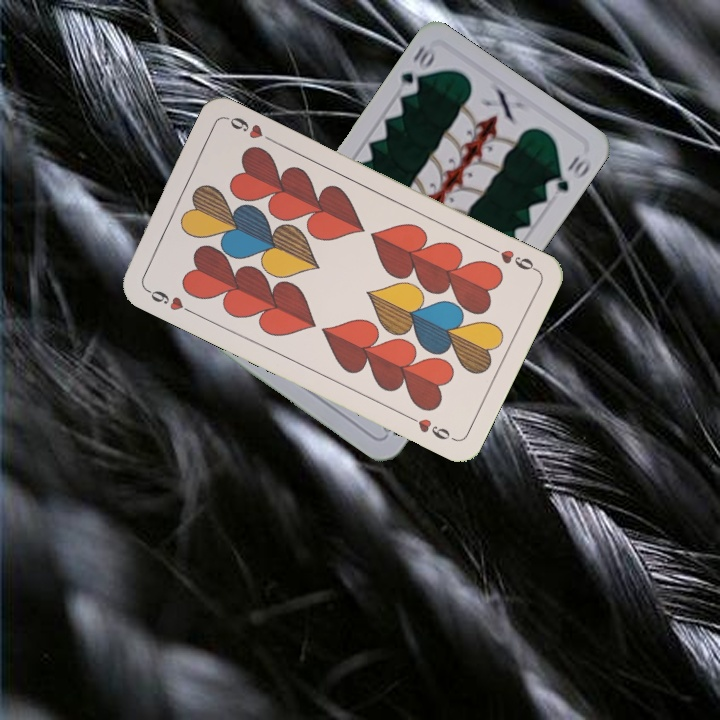G10: (393, 40, 438, 99)
H9: (484, 241, 539, 274), (141, 284, 196, 317)
